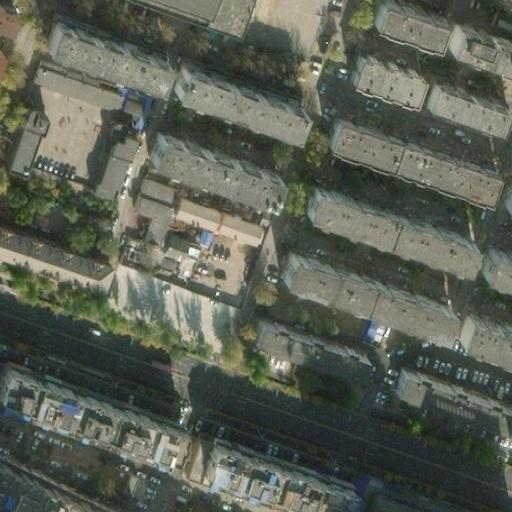building: (0, 367, 177, 458), (296, 179, 468, 267), (314, 117, 486, 204), (278, 246, 446, 332), (106, 263, 240, 348), (195, 443, 340, 512), (149, 125, 285, 198), (36, 17, 166, 88), (171, 66, 301, 135), (245, 314, 368, 381), (0, 223, 101, 295), (393, 368, 502, 431), (166, 187, 259, 242), (0, 465, 97, 512), (421, 68, 502, 122), (24, 58, 113, 107), (341, 44, 416, 101), (81, 133, 130, 211), (443, 13, 512, 67), (0, 110, 42, 179), (19, 161, 88, 203), (364, 0, 438, 36), (459, 313, 512, 361), (155, 232, 203, 280), (126, 174, 175, 219), (118, 231, 165, 269), (475, 243, 512, 282), (115, 91, 152, 129), (354, 491, 419, 512), (497, 167, 512, 211), (0, 45, 14, 84)
